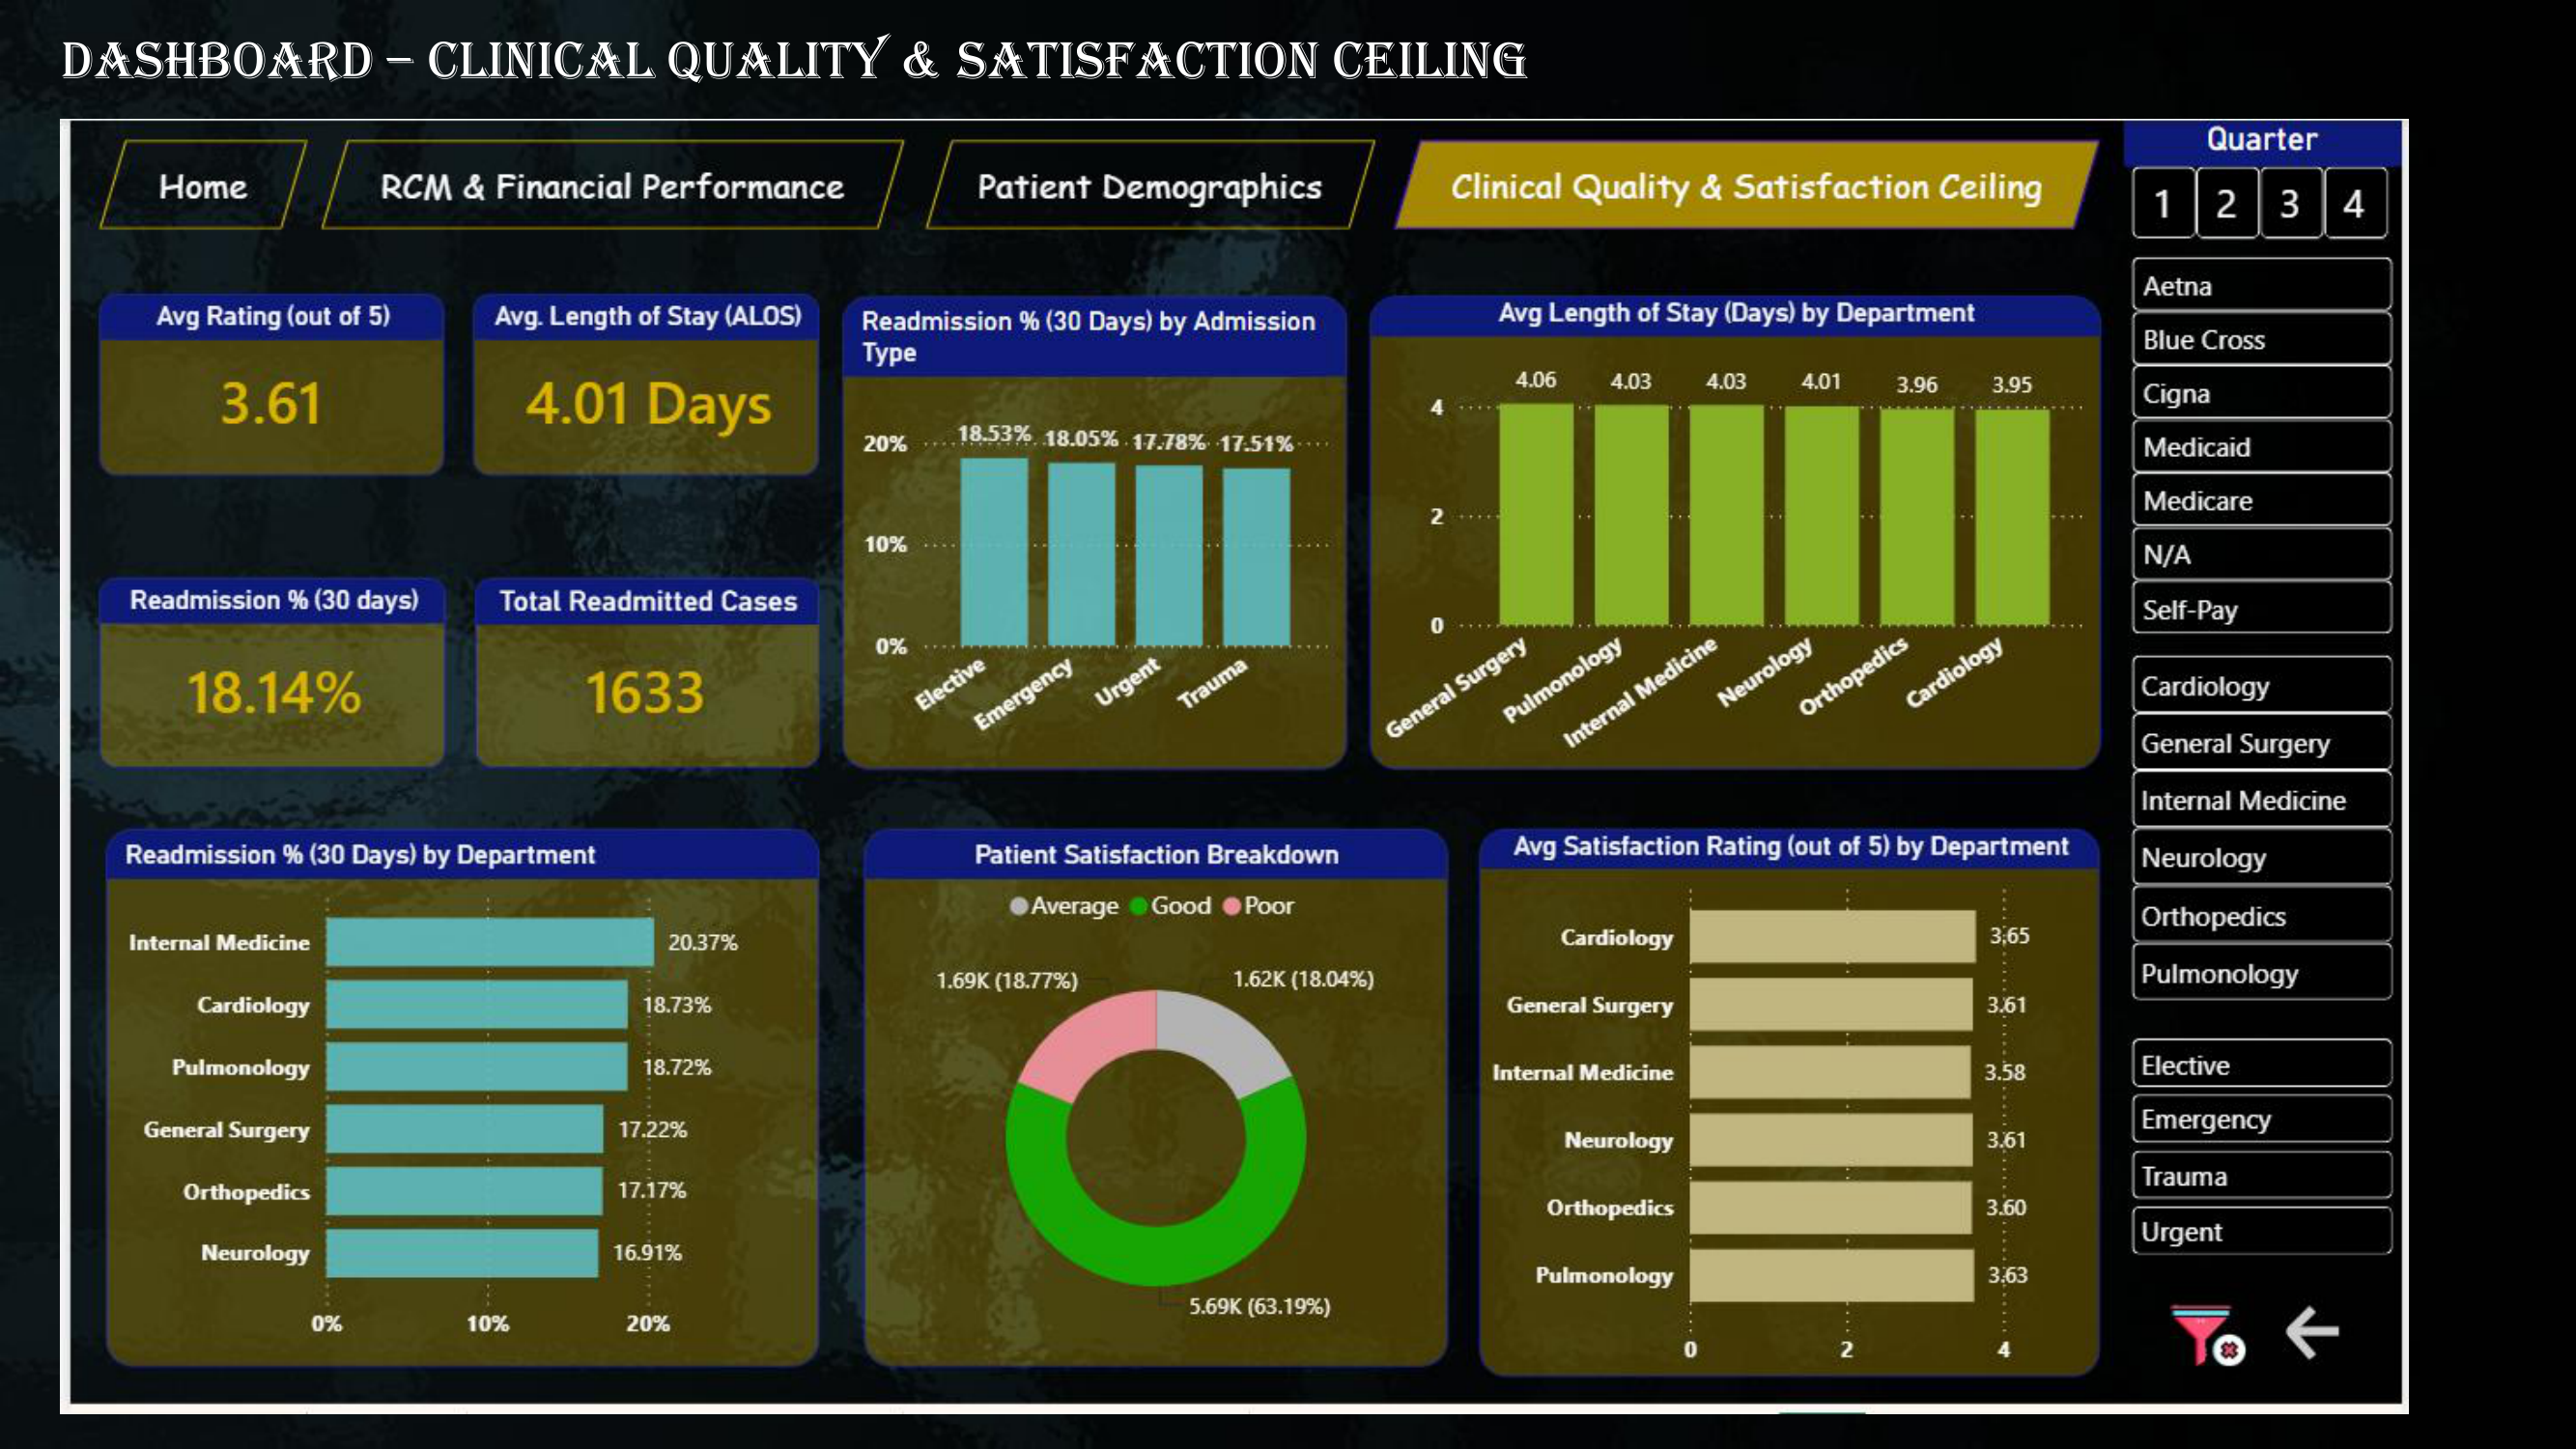

The page's visual inventory and layout, read from the dashboard file:
{"tool":"powerbi","page":{"name":"Clinical Quality & Satisfaction Ceiling","canvas":[1280,720],"ordinal":3},"visuals":[{"type":"cardVisual","title":"Total Readmitted Cases","fields":{"Data":["Fact_Admissions.Total Readmited Cases"]},"box":[222,240.1,189.4,120.6],"z":0},{"type":"cardVisual","title":"Avg Rating (out of 5)","fields":{"Data":["Avg(Fact_Admissions.Patient_Satisfaction)"]},"box":[15.7,96.5,189.4,101.3],"z":1000},{"type":"cardVisual","title":"Readmission % (30 days)","fields":{"Data":["Fact_Admissions.Readmission % 30 days"]},"box":[15.7,240.1,190.6,120.6],"z":2000},{"type":"cardVisual","title":"Avg.  Length of Stay (ALOS)","fields":{"Data":["Fact_Admissions.ALOS"]},"box":[220.8,96.5,190.6,101.3],"z":3000},{"type":"clusteredColumnChart","title":"Avg Length of Stay  (Days) by Department","fields":{"Category":["Dim_Doctors.Specialty"],"Y":["Avg(Fact_Admissions.Stay_Days)"]},"box":[712.6,98.1,401.9,263.8],"z":4000},{"type":"shape","box":[15.2,11,114.6,49.7],"z":5000},{"type":"shape","box":[138.1,11,320.4,49.7],"z":6000},{"type":"shape","box":[469.6,11,247.2,49.7],"z":7000},{"type":"shape","box":[726.5,11,388.1,49.7],"z":8000},{"type":"clusteredBarChart","title":"Readmission % (30 Days) by Department","fields":{"Y":["Fact_Admissions.Readmission % 30 days"],"Category":["Dim_Doctors.Specialty"]},"box":[19.3,395,392.2,299.7],"z":9000},{"type":"image","box":[1142.5,656.3,61.5,43.4],"z":10000},{"type":"actionButton","box":[1212.5,656.3,51.9,38.6],"z":11000},{"type":"clusteredColumnChart","title":"Readmission % (30 Days) by Admission Type","fields":{"Category":["Fact_Admissions.Admission_Type"],"Y":["Fact_Admissions.Readmission % 30 days"]},"box":[424,98.1,277.6,263.8],"z":12000},{"type":"clusteredBarChart","title":"Avg Satisfaction Rating (out of 5) by Department","fields":{"Category":["Dim_Doctors.Specialty"],"Y":["Avg(Fact_Admissions.Patient_Satisfaction)"]},"box":[773.4,395,341.1,305.2],"z":13000},{"type":"donutChart","title":"Patient Satisfaction Breakdown","fields":{"Category":["Fact_Admissions.Satisfaction_Breakdown"],"Y":["CountNonNull(Fact_Admissions.Encounter_ID)"]},"box":[435,395,320.4,299.7],"z":14000},{"type":"advancedSlicerVisual","fields":{"Values":["Dim_Patients.Insurance_Provider"]},"box":[1126.8,71.2,153.2,220.8],"z":15000},{"type":"advancedSlicerVisual","fields":{"Values":["Dim_Doctors.Specialty"]},"box":[1126.8,293.2,153.2,203.9],"z":16000},{"type":"advancedSlicerVisual","fields":{"Values":["Fact_Admissions.Admission_Type"]},"box":[1126.8,506.7,153.2,130.3],"z":17000},{"type":"advancedSlicerVisual","fields":{"Values":["Fact_Admissions.Year_Quarter"]},"box":[1127.1,0,152.9,71.4],"z":18000}]}

Visuals, with their boxes in screenshot pixels (x1, y1, x2, y2), scaled from the page's 1280x720 canvas onto the 2576x1449 screenshot:
"Total Readmitted Cases" cardVisual: BBox(447, 483, 828, 725)
"Avg Rating (out of 5)" cardVisual: BBox(32, 194, 412, 398)
"Readmission % (30 days)" cardVisual: BBox(32, 483, 415, 725)
"Avg.  Length of Stay (ALOS)" cardVisual: BBox(444, 194, 828, 398)
"Avg Length of Stay  (Days) by Department" clusteredColumnChart: BBox(1434, 197, 2243, 728)
shape: BBox(31, 22, 261, 122)
shape: BBox(278, 22, 922, 122)
shape: BBox(945, 22, 1443, 122)
shape: BBox(1462, 22, 2243, 122)
"Readmission % (30 Days) by Department" clusteredBarChart: BBox(39, 795, 828, 1398)
image: BBox(2300, 1321, 2423, 1408)
actionButton: BBox(2440, 1321, 2544, 1399)
"Readmission % (30 Days) by Admission Type" clusteredColumnChart: BBox(853, 197, 1412, 728)
"Avg Satisfaction Rating (out of 5) by Department" clusteredBarChart: BBox(1556, 795, 2243, 1409)
"Patient Satisfaction Breakdown" donutChart: BBox(875, 795, 1520, 1398)
advancedSlicerVisual - Dim_Patients.Insurance_Provider: BBox(2268, 143, 2575, 587)
advancedSlicerVisual - Dim_Doctors.Specialty: BBox(2268, 590, 2575, 1001)
advancedSlicerVisual - Fact_Admissions.Admission_Type: BBox(2268, 1020, 2575, 1282)
advancedSlicerVisual - Fact_Admissions.Year_Quarter: BBox(2268, 0, 2575, 144)
